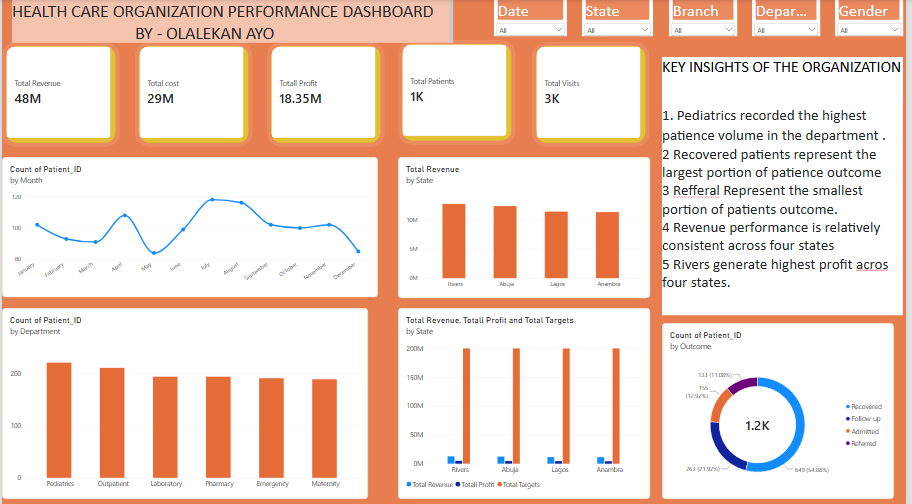

Layout of this report page (visuals, bound fields, positions):
{"tool":"powerbi","page":{"name":"Executive overview","canvas":[2560,1440],"ordinal":0},"visuals":[{"type":"cardVisual","fields":{"Data":["Patient_Visits.Total Revenue"]},"box":[1164.6,112.5,266.5,258],"z":0,"group":"g1"},{"type":"stackedAreaChart","fields":{"Category":["Date_Table.Month"],"Y":["Count(Patient_Visits.Patient_ID)"]},"box":[0,422.4,1179.2,402.5],"z":0},{"type":"group","id":"g1","title":"Group 1","box":[1164.6,112.5,1392.1,264.6],"z":1000},{"type":"cardVisual","fields":{"Data":["Patient_Visits.Total cost"]},"box":[1463.6,113.9,250.1,257.6],"z":1000,"group":"g1"},{"type":"cardVisual","fields":{"Data":["Date_Table.Totall Profit"]},"box":[1745.5,113.9,250.1,257.6],"z":2000,"group":"g1"},{"type":"textbox","box":[0,580.4,497.5,106.3],"z":2000},{"type":"textbox","box":[121.9,0,1184.9,90.7],"z":3000},{"type":"cardVisual","fields":{"Data":["Patient_Visits.Total Patients"]},"box":[2013.3,116.3,283.5,260.8],"z":3000,"group":"g1"},{"type":"cardVisual","fields":{"Data":["Patient_Visits.Total Visits"]},"box":[2310.1,112.5,246.6,255.1],"z":4000,"group":"g1"},{"type":"textbox","box":[0,686,746,150],"z":4000},{"type":"columnChart","fields":{"Category":["Patient_Visits.State"],"Y":["Patient_Visits.Total Revenue"]},"box":[1204.7,836.2,705.8,603.8],"z":5000},{"type":"clusteredColumnChart","fields":{"Category":["Patient_Visits.Department"],"Y":["CountNonNull(Patient_Visits.Patient_ID)"]},"box":[0,836.2,1184.9,606.6],"z":6000},{"type":"textbox","box":[1403.1,654.8,249.4,65.2],"z":7000},{"type":"clusteredColumnChart","fields":{"Category":["Patient_Visits.State"],"Y":["Patient_Visits.Total Revenue","Date_Table.Totall Profit","Date_Table.Total Targets"]},"box":[1184.9,399.7,725.7,425.2],"z":8000},{"type":"slicer","fields":{"Values":["Date_Table.Date"]},"box":[1323.8,0,155.2,76.5],"z":9000},{"type":"slicer","fields":{"Values":["Patient_Visits.State"]},"box":[1513.7,0,150.9,76.5],"z":10000},{"type":"slicer","fields":{"Values":["Patient_Visits.Branch"]},"box":[1712.1,0,144.6,76.5],"z":11000},{"type":"slicer","fields":{"Values":["Patient_Visits.Department"]},"box":[1919.1,0,144.6,76.5],"z":12000},{"type":"slicer","fields":{"Values":["Patient_Visits.Gender"]},"box":[2126,0,144.6,76.5],"z":13000},{"type":"textbox","title":"KEY INSIGHTS OF THE ORGANIZATION      ","box":[1919.1,943.9,640.6,496.1],"z":15000},{"type":"donutChart","fields":{"Category":["Patient_Visits.Outcome"],"Y":["CountNonNull(Patient_Visits.Patient_ID)"]},"box":[1919.1,394,640.6,530.1],"z":16000},{"type":"actionButton","title":"Patients EX","box":[0,0,121.2,76.5],"z":17000},{"type":"cardVisual","fields":{"Data":["Date_Table.Executive Insights"]},"box":[0,102,637.8,300.5],"z":17001},{"type":"slicer","fields":{"Values":["Revenue Target Adjustment.Revenue Target Adjustment"]},"box":[320.3,340.2,586.8,124.7],"z":17002},{"type":"cardVisual","fields":{"Data":["Date_Table.Scenairo Revenue Targets"]},"box":[660.5,102,490.4,300.5],"z":17003}]}

Visuals, with their boxes in screenshot pixels (x1, y1, x2, y2), scaled from the page's 2560x1440 canvas onto the 912x504 screenshot:
cardVisual - Patient_Visits.Total Revenue: l=415, t=39, r=510, b=130
stackedAreaChart - Date_Table.Month x Count(Patient_Visits.Patient_ID): l=0, t=148, r=420, b=289
"Group 1" group: l=415, t=39, r=911, b=132
cardVisual - Patient_Visits.Total cost: l=521, t=40, r=611, b=130
cardVisual - Date_Table.Totall Profit: l=622, t=40, r=711, b=130
textbox: l=0, t=203, r=177, b=240
textbox: l=43, t=0, r=466, b=32
cardVisual - Patient_Visits.Total Patients: l=717, t=41, r=818, b=132
cardVisual - Patient_Visits.Total Visits: l=823, t=39, r=911, b=129
textbox: l=0, t=240, r=266, b=293
columnChart - Patient_Visits.State x Patient_Visits.Total Revenue: l=429, t=293, r=681, b=503
clusteredColumnChart - Patient_Visits.Department x CountNonNull(Patient_Visits.Patient_ID): l=0, t=293, r=422, b=503
textbox: l=500, t=229, r=589, b=252
clusteredColumnChart - Patient_Visits.State x Patient_Visits.Total Revenue: l=422, t=140, r=681, b=289
slicer - Date_Table.Date: l=472, t=0, r=527, b=27
slicer - Patient_Visits.State: l=539, t=0, r=593, b=27
slicer - Patient_Visits.Branch: l=610, t=0, r=661, b=27
slicer - Patient_Visits.Department: l=684, t=0, r=735, b=27
slicer - Patient_Visits.Gender: l=757, t=0, r=809, b=27
"KEY INSIGHTS OF THE ORGANIZATION      " textbox: l=684, t=330, r=911, b=503
donutChart - Patient_Visits.Outcome x CountNonNull(Patient_Visits.Patient_ID): l=684, t=138, r=911, b=323
"Patients EX" actionButton: l=0, t=0, r=43, b=27
cardVisual - Date_Table.Executive Insights: l=0, t=36, r=227, b=141
slicer - Revenue Target Adjustment.Revenue Target Adjustment: l=114, t=119, r=323, b=163
cardVisual - Date_Table.Scenairo Revenue Targets: l=235, t=36, r=410, b=141
